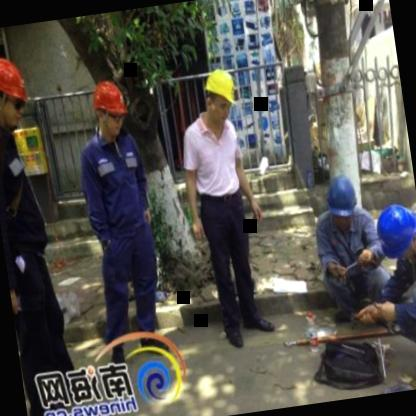helmet: (86, 73, 134, 143), (370, 198, 416, 265), (0, 50, 36, 135), (198, 61, 243, 127), (320, 168, 364, 228)
